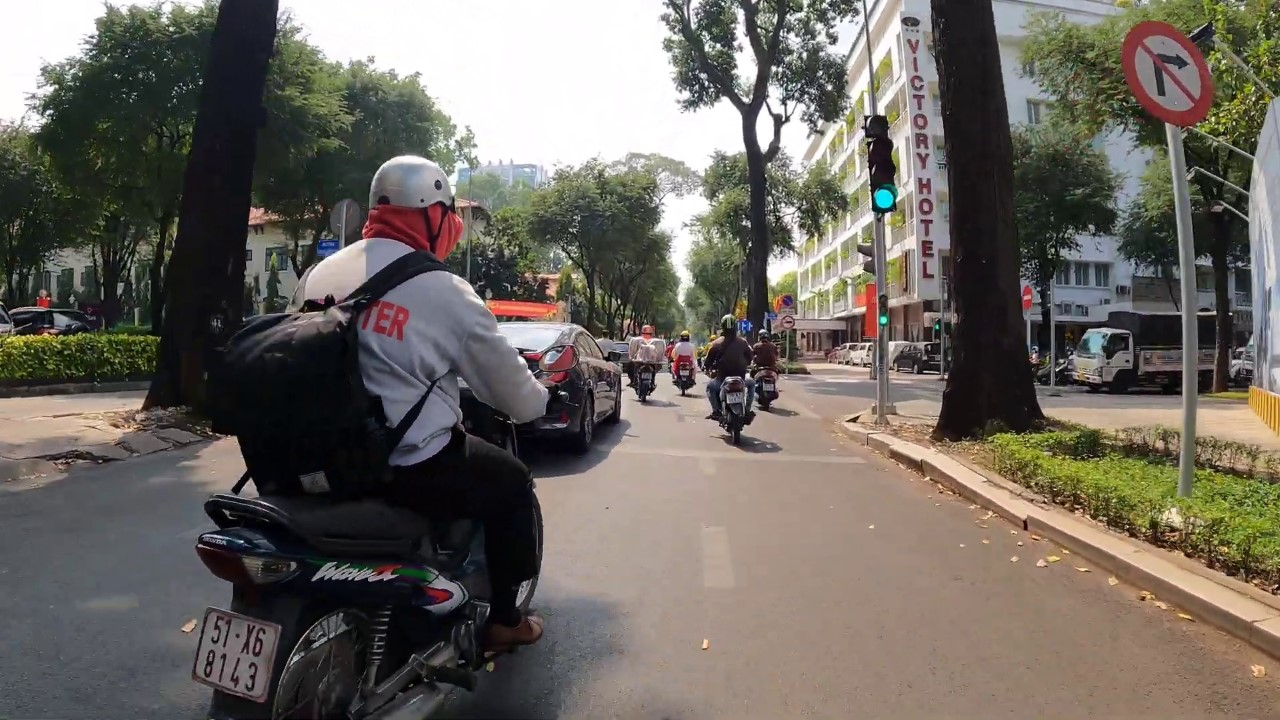cam_do_xe: (779, 292, 795, 309)
cam_re_phai: (1116, 18, 1212, 128)
